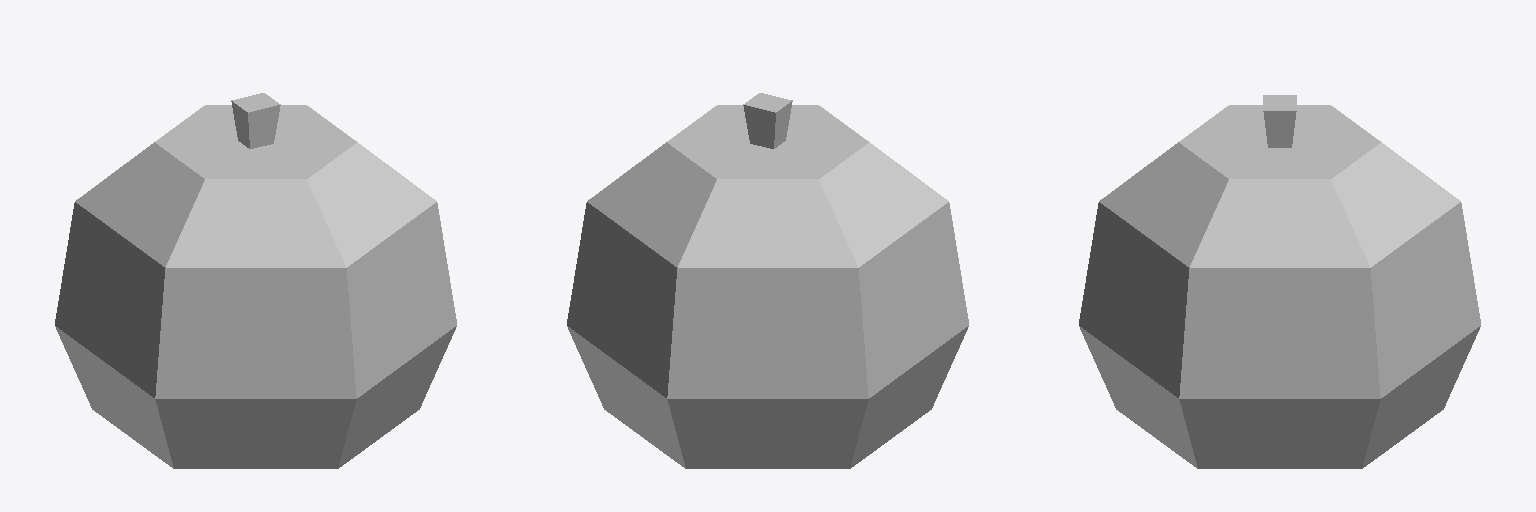
File: tomato.obj
3 views of the same model, side by side, from view 1: azimuth 30°, elevation 25°; view 2: azimuth 150°, elevation 25°; view 3: azimuth 270°, elevation 25° (orthographic).
Visible parts, largest first — view 1: Mesh1 Group1 Model; view 2: Mesh1 Group1 Model; view 3: Mesh1 Group1 Model.
Boxes of the visible parts, x1=… form: Mesh1 Group1 Model: x1=55, y1=93, x2=456, y2=468; Mesh1 Group1 Model: x1=567, y1=93, x2=968, y2=468; Mesh1 Group1 Model: x1=1079, y1=95, x2=1480, y2=468.
Bounding box in the file's own units: 0.6391 × 0.62 × 0.738.